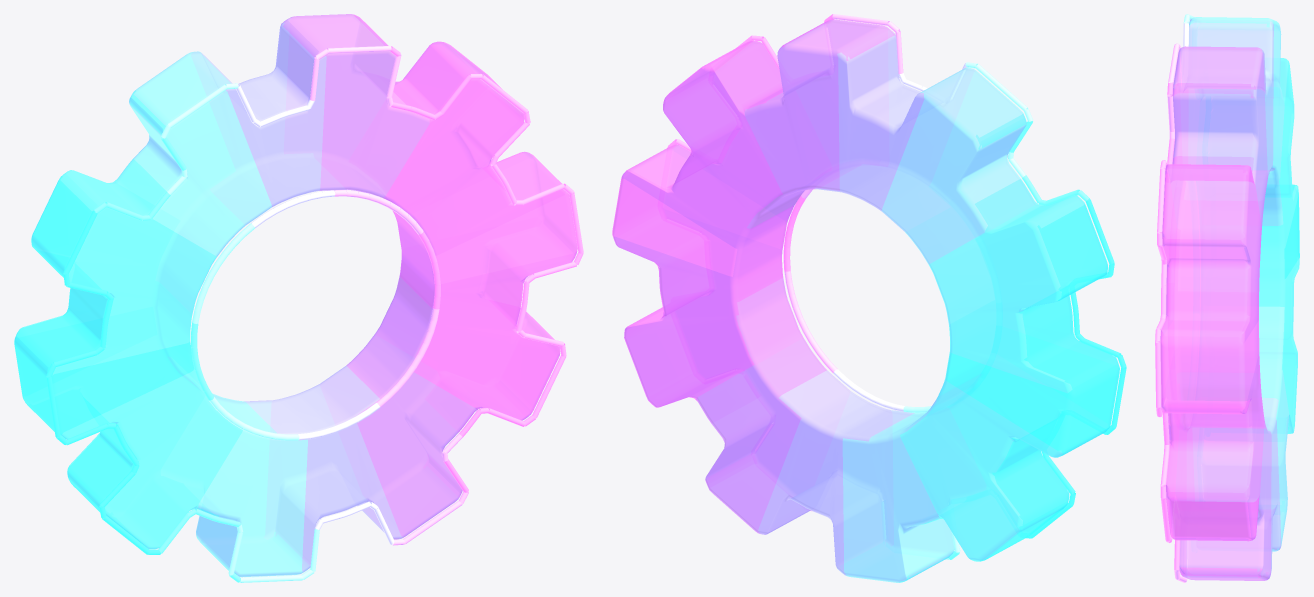
File: phase-gear.glb
3 renders of one model, left to right at view 1: azimuth 30°, elevation 25°; view 2: azimuth 150°, elevation 25°; view 3: azimuth 270°, elevation 25°, orthographic. The views are drawn at different scales.
Visible parts, largest first — view 1: Item_Gear_spectral_band_0, Item_Gear_luminous_edge_4, Item_Gear_luminous_edge_2, Item_Gear_luminous_edge_0, Item_Gear_luminous_edge_6, Item_Gear_luminous_edge_3, Item_Gear_luminous_edge_1, Item_Gear_luminous_edge_5; view 2: Item_Gear_spectral_band_0, Item_Gear_luminous_edge_0, Item_Gear_luminous_edge_4, Item_Gear_luminous_edge_2, Item_Gear_luminous_edge_5, Item_Gear_luminous_edge_3, Item_Gear_luminous_edge_1; view 3: Item_Gear_spectral_band_0, Item_Gear_luminous_edge_6, Item_Gear_luminous_edge_4, Item_Gear_luminous_edge_5.
Boxes of the visible parts, box(x1,y1,x2,y2) form: Item_Gear_spectral_band_0: box(14, 14, 577, 577); Item_Gear_luminous_edge_4: box(310, 46, 468, 545); Item_Gear_luminous_edge_2: box(161, 83, 319, 582); Item_Gear_luminous_edge_0: box(46, 210, 160, 554); Item_Gear_luminous_edge_6: box(469, 73, 583, 418); Item_Gear_luminous_edge_3: box(236, 84, 394, 544); Item_Gear_luminous_edge_1: box(94, 137, 240, 582); Item_Gear_luminous_edge_5: box(389, 46, 535, 492); Item_Gear_spectral_band_0: box(612, 19, 1119, 582); Item_Gear_luminous_edge_0: box(1026, 199, 1126, 538); Item_Gear_luminous_edge_4: box(772, 14, 903, 511); Item_Gear_luminous_edge_2: box(882, 62, 1032, 559); Item_Gear_luminous_edge_5: box(706, 14, 834, 451); Item_Gear_luminous_edge_3: box(830, 63, 967, 500); Item_Gear_luminous_edge_1: box(948, 121, 1089, 559); Item_Gear_spectral_band_0: box(1160, 17, 1299, 580); Item_Gear_luminous_edge_6: box(1155, 160, 1170, 541); Item_Gear_luminous_edge_4: box(1167, 43, 1187, 582); Item_Gear_luminous_edge_5: box(1164, 82, 1180, 570).
Size of the model in its own units: 1.05 by 1.04 by 0.2649.
